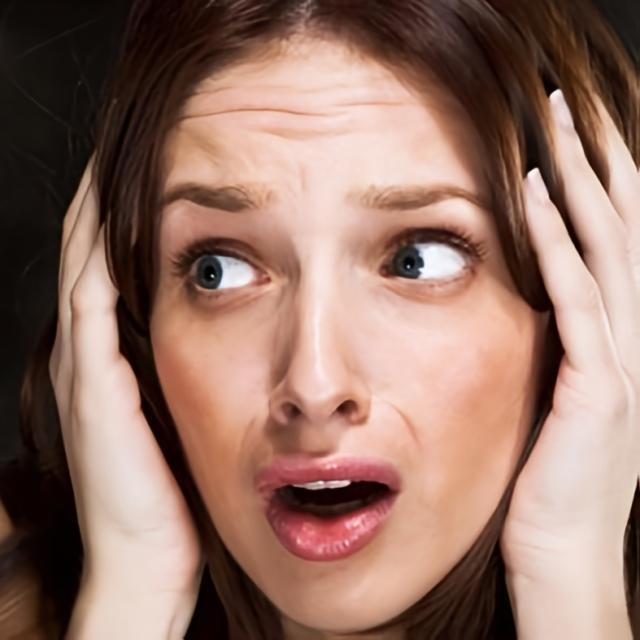Fear: (146, 11, 552, 634)
